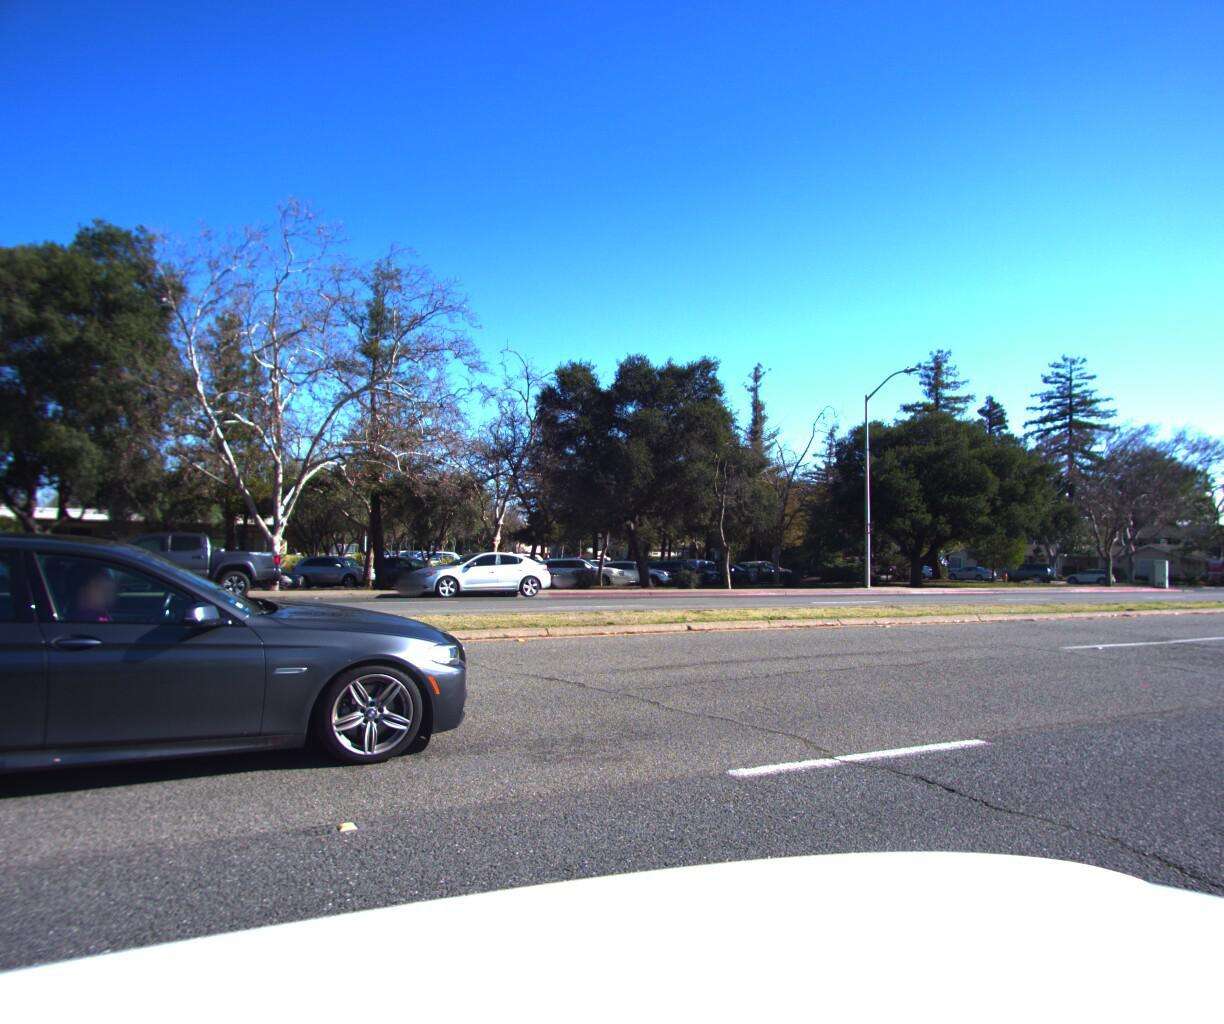car: (0, 493, 498, 880), (32, 525, 290, 606), (391, 543, 560, 600), (995, 556, 1059, 579), (1053, 560, 1116, 580), (943, 559, 997, 577), (891, 557, 941, 574)
